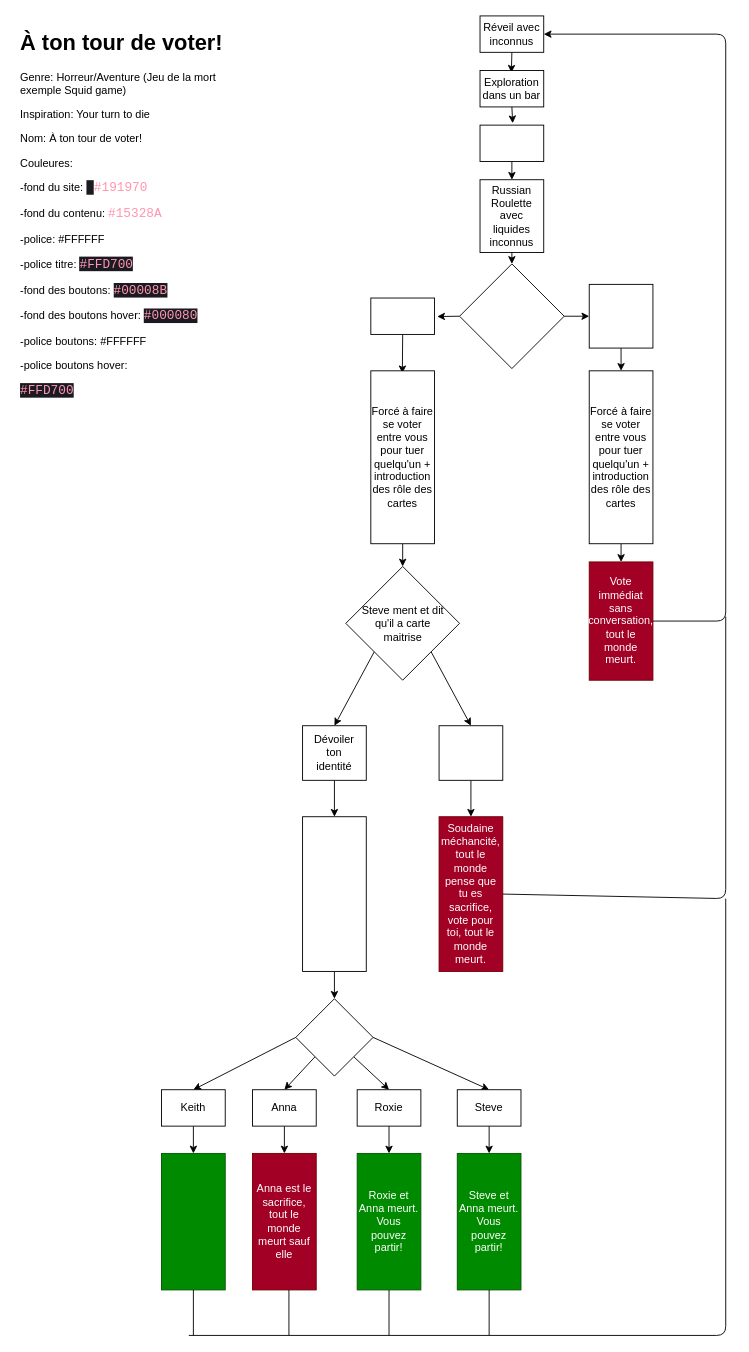
The diagram is 749 pixels wide and 1352 high, and some of its shapes have lost their labels. The centre of each missing label's shape, as x and y in pixels:
"Aider à le finir" goes at (402,315).
"Anna et Keith meurt. Vous pouvez partir!" goes at (193,1221).
"Laisser quelqu'un d'autre le faire" goes at (620,315).
"Qui vote tu?" goes at (334,1037).
"Tourner contre Steve" goes at (470,752).
"Tout le monde croit, décide vote selon ton choix" goes at (334,893).
"Trouve carte maitrise" goes at (511,143).
"Une fille n'ait pas capable de le finir" goes at (511,316).
